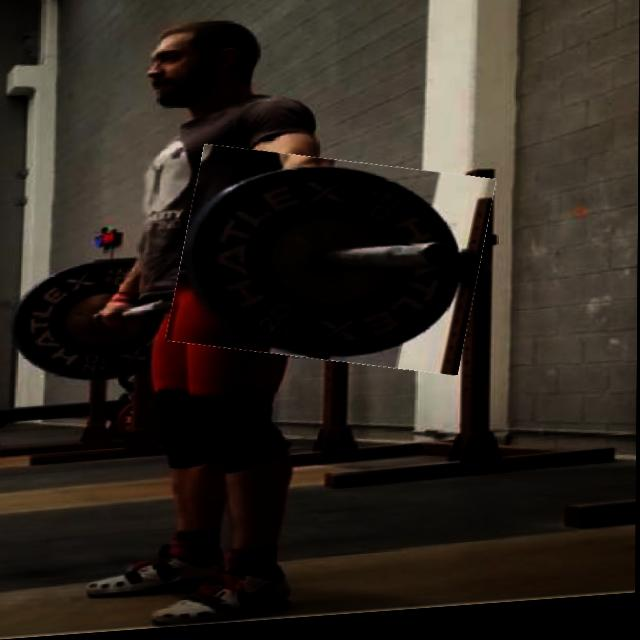barbell: (175, 145, 490, 387)
